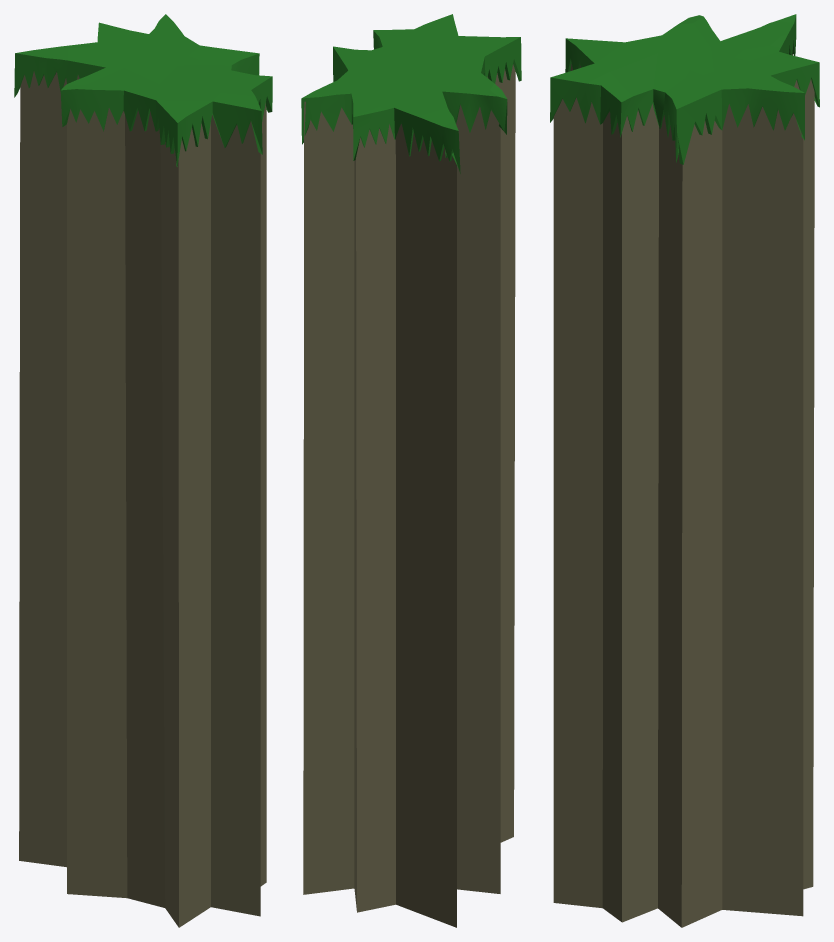
Rendered from grass_layer_star_small.fbx.
3 views of the same model, side by side, from view 1: azimuth 30°, elevation 25°; view 2: azimuth 150°, elevation 25°; view 3: azimuth 270°, elevation 25° (orthographic). The views are drawn at different scales.
Parts seen in each view (by area): view 1: grass_layer_star_small_base, grass_layer_star_small; view 2: grass_layer_star_small_base, grass_layer_star_small; view 3: grass_layer_star_small_base, grass_layer_star_small.
Boxes of the visible parts, left/top/right/bottom form: grass_layer_star_small_base: left=19, top=71, right=266, bottom=927; grass_layer_star_small: left=14, top=14, right=272, bottom=166; grass_layer_star_small_base: left=303, top=64, right=515, bottom=927; grass_layer_star_small: left=301, top=14, right=521, bottom=173; grass_layer_star_small_base: left=553, top=54, right=814, bottom=927; grass_layer_star_small: left=550, top=14, right=819, bottom=164.
Size of the model in its own units: 387 by 1591 by 471.
